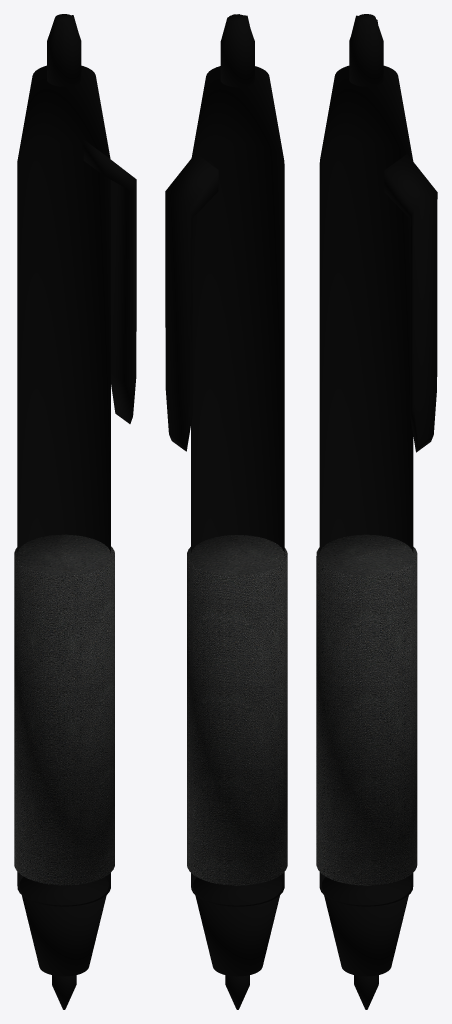
The model's file is black_pen.glb.
The picture shows the model from 3 angles, left to right: view 1: azimuth 30°, elevation 25°; view 2: azimuth 210°, elevation 25°; view 3: azimuth 330°, elevation 25°; orthographic projection.
Visible parts, largest first — view 1: Cylinder.001_0; view 2: Cylinder.001_0; view 3: Cylinder.001_0.
Part boxes in pixels (bbox=[...]): Cylinder.001_0: bbox=[14, 14, 136, 1009]; Cylinder.001_0: bbox=[165, 14, 287, 1009]; Cylinder.001_0: bbox=[316, 14, 437, 1009].
Size of the model in its own units: 0.4373 by 3.99 by 0.3685.
Materials: 2 (2 with a texture image).
